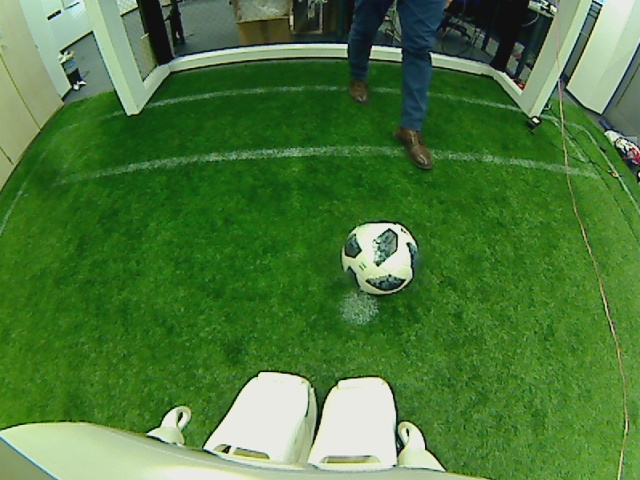ball: (338, 221, 420, 296)
